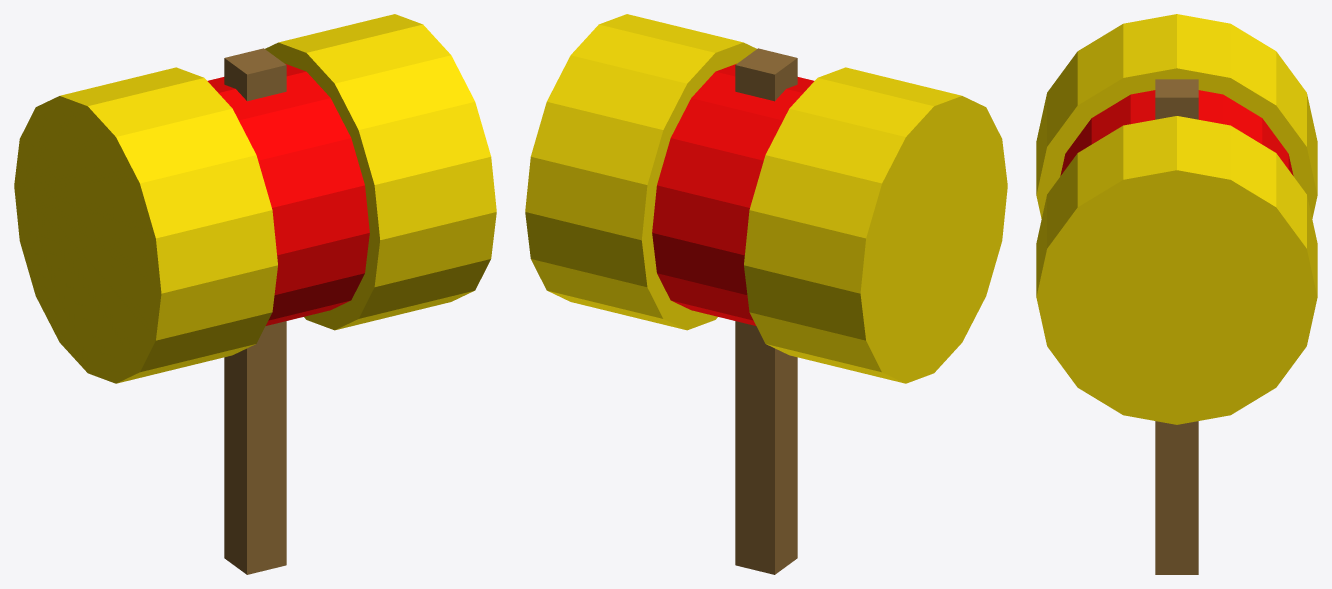
File: UltraHammer.fbx
The picture shows the model from 3 angles, left to right: view 1: azimuth 30°, elevation 25°; view 2: azimuth 150°, elevation 25°; view 3: azimuth 270°, elevation 25°; orthographic projection. The views are drawn at different scales.
Visible parts, largest first — view 1: Ultra_Hammer; view 2: Ultra_Hammer; view 3: Ultra_Hammer.
Part boxes in pixels (x1=…): Ultra_Hammer: x1=14, y1=14, x2=496, y2=574; Ultra_Hammer: x1=525, y1=14, x2=1007, y2=574; Ultra_Hammer: x1=1036, y1=14, x2=1317, y2=574.
Bounding box in the file's own units: 184 × 262 × 140.
